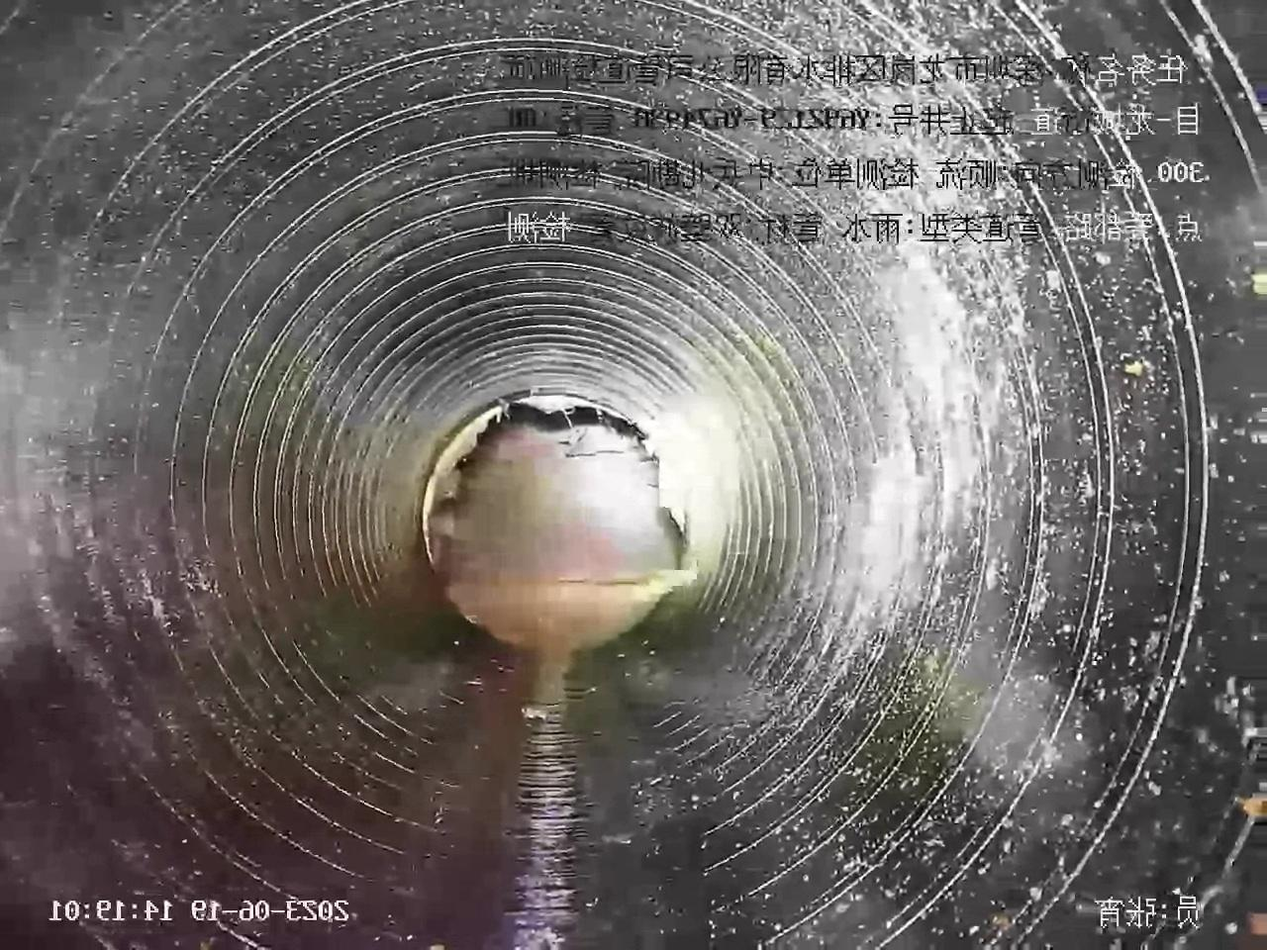JKCL: (415, 385, 710, 576)
